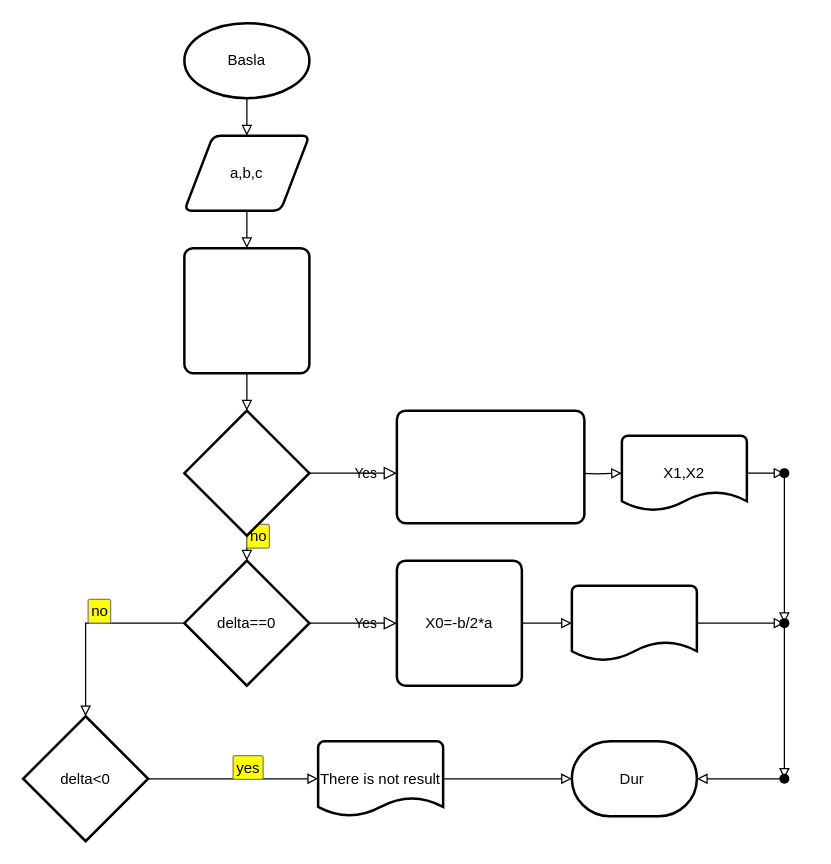
The diagram is 831 pixels wide and 864 high, and some of its shapes have lost their labels. The centre of each missing label's shape, as x and y in pixels:
delta=b^2-4*a*c: [246,310]
delta>0: [246,472]
X0: [634,622]
X1=(-b+(delta)^(1/2))/2*a X2=(-b-(delta)^(1/2))/2*a: [490,466]
